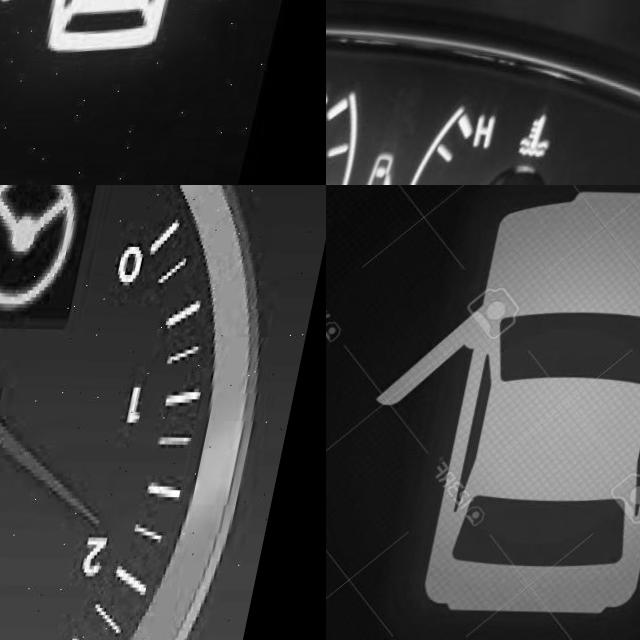Electronic Power Steering Warning: (0, 185, 94, 310)
